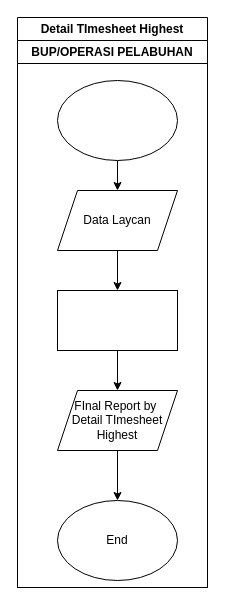
Some shapes in this 225 by 605 pixel diagram are drawn without their labels. Each missing label, with the box of its shape:
Entry FInal Report by Detail TImesheet Highest: (56, 290, 178, 350)
Start: (56, 80, 178, 160)
